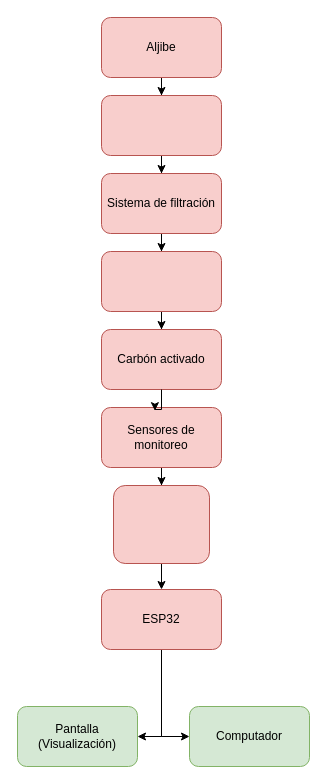
Some shapes in this 327 by 784 pixel diagram are drawn without their labels. Here are the shapes that lost their labels. From the top down, the centre of each, then its label:
At point (161, 125): "Bomba Sumergible".
At point (161, 281): "Grava/Arena".
At point (161, 524): "• Ph • TDS • Nivel de Agua • Turbidez".
